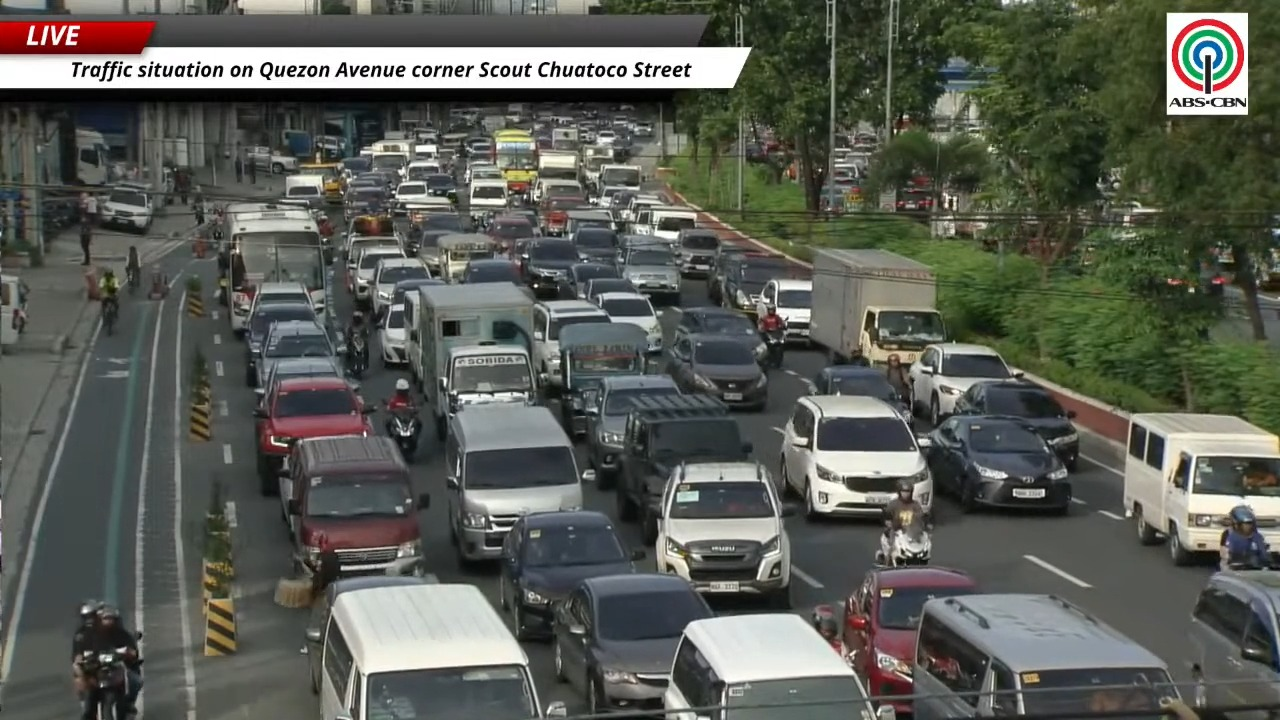bus: (227, 210, 332, 333), (492, 129, 537, 193), (75, 128, 111, 185)
car: (552, 573, 713, 714), (654, 462, 795, 609), (615, 394, 752, 538), (780, 396, 934, 518), (499, 510, 642, 639), (840, 566, 978, 696), (305, 575, 437, 693), (926, 415, 1071, 514), (255, 377, 375, 495), (1188, 570, 1279, 707), (954, 380, 1079, 471), (586, 375, 679, 489), (909, 343, 1021, 426), (668, 334, 767, 410), (533, 300, 610, 387), (245, 301, 317, 386), (809, 365, 911, 423), (255, 321, 338, 385), (672, 306, 766, 361), (720, 252, 792, 314), (254, 357, 345, 403), (595, 293, 662, 352), (756, 278, 813, 343), (370, 255, 431, 315), (620, 245, 681, 304), (519, 238, 580, 296), (345, 233, 403, 293), (353, 245, 403, 308), (99, 182, 156, 232), (245, 282, 323, 318), (706, 242, 746, 305), (560, 262, 617, 299), (677, 228, 719, 276), (377, 304, 407, 366), (569, 226, 617, 263), (460, 258, 522, 286), (343, 183, 389, 220), (486, 214, 537, 247), (539, 196, 582, 235), (389, 278, 444, 304), (583, 277, 636, 302), (394, 181, 432, 214), (419, 213, 464, 232), (424, 174, 457, 197)
motorcycle: (80, 648, 128, 719), (876, 527, 931, 567), (811, 604, 846, 660), (388, 410, 421, 463), (347, 333, 367, 378), (764, 328, 785, 368), (102, 297, 118, 335), (126, 265, 139, 294)
truck: (1123, 413, 1279, 565), (409, 283, 533, 440), (810, 248, 946, 364), (442, 343, 537, 425), (580, 145, 613, 194), (537, 150, 577, 180), (551, 127, 579, 152)
